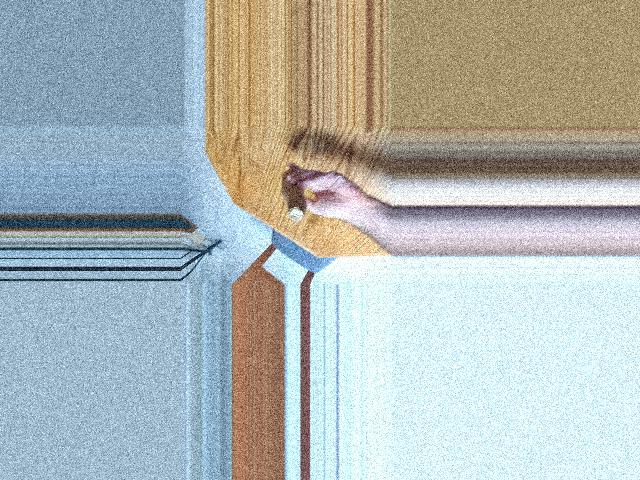sweet_potato: (279, 167, 319, 228)
